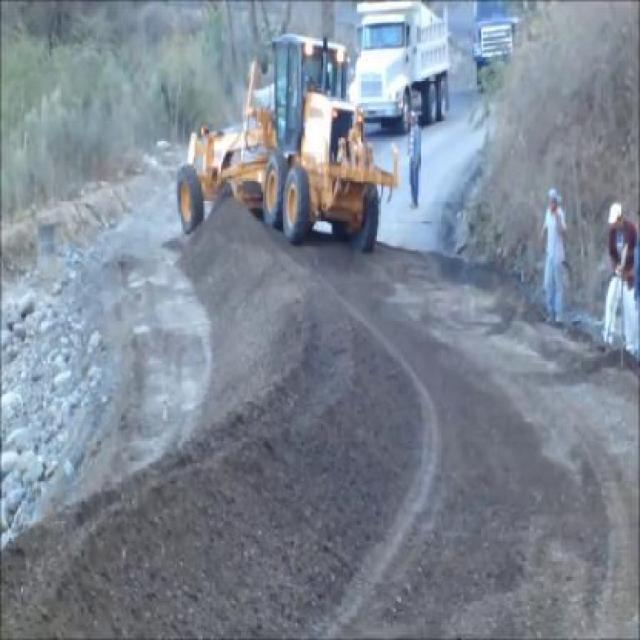Dump Truck: (350, 1, 448, 117)
Grader: (172, 40, 396, 232)
